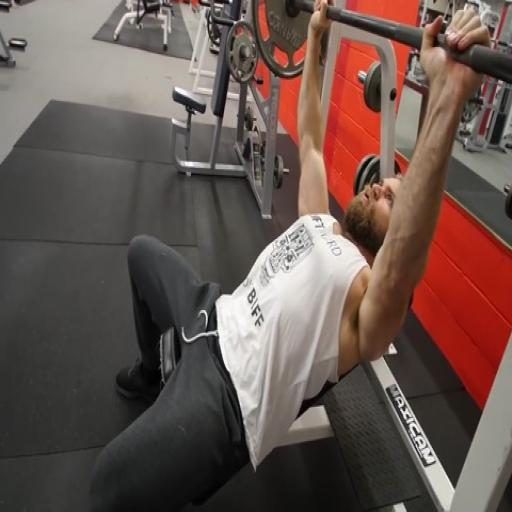exercise: (85, 0, 493, 511)
